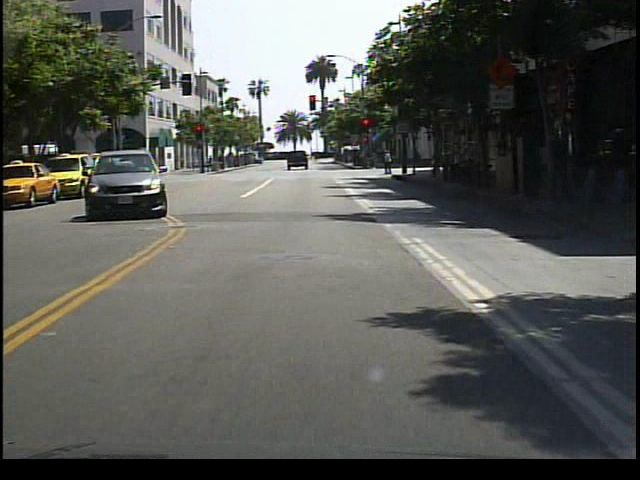person: (411, 144, 427, 174), (383, 149, 398, 176)
